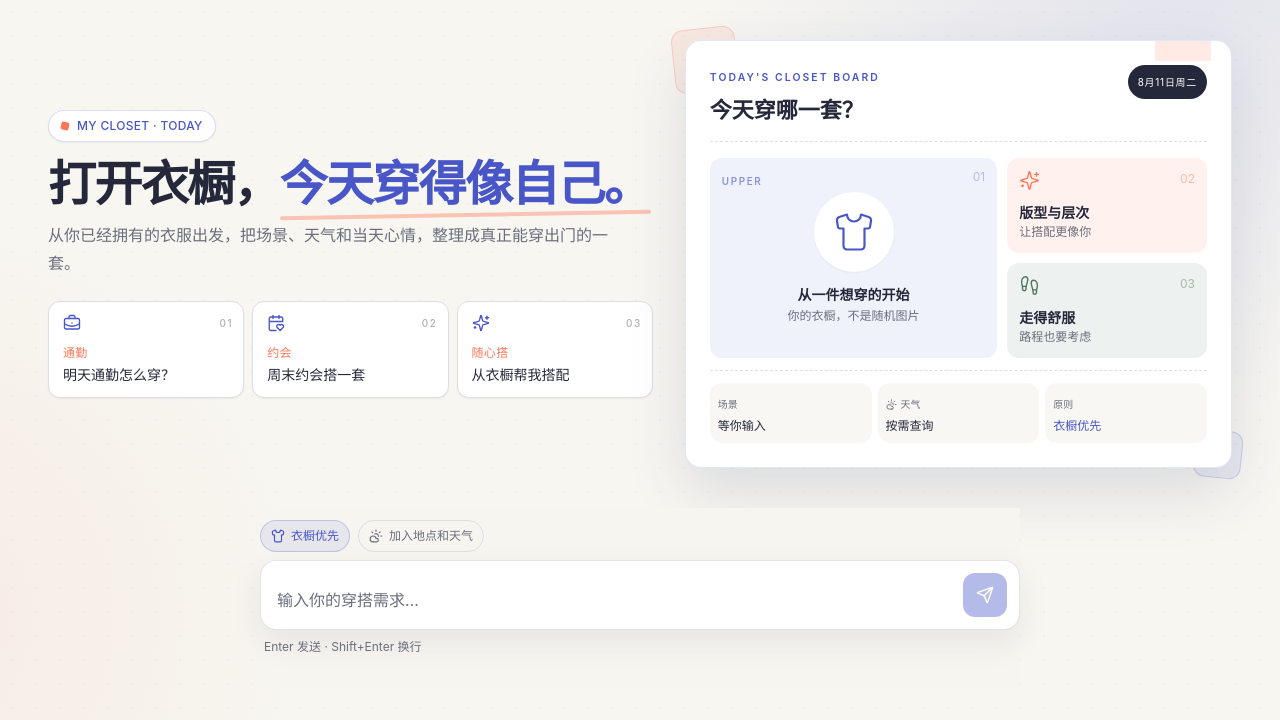
Test: WelcomeState quick prompts › 点击快捷卡片时填充输入框而不是绕过天气字段直接发送
Click the button "01 通勤 明天通勤怎么穿？" at (146,350), box [48,301,244,398]
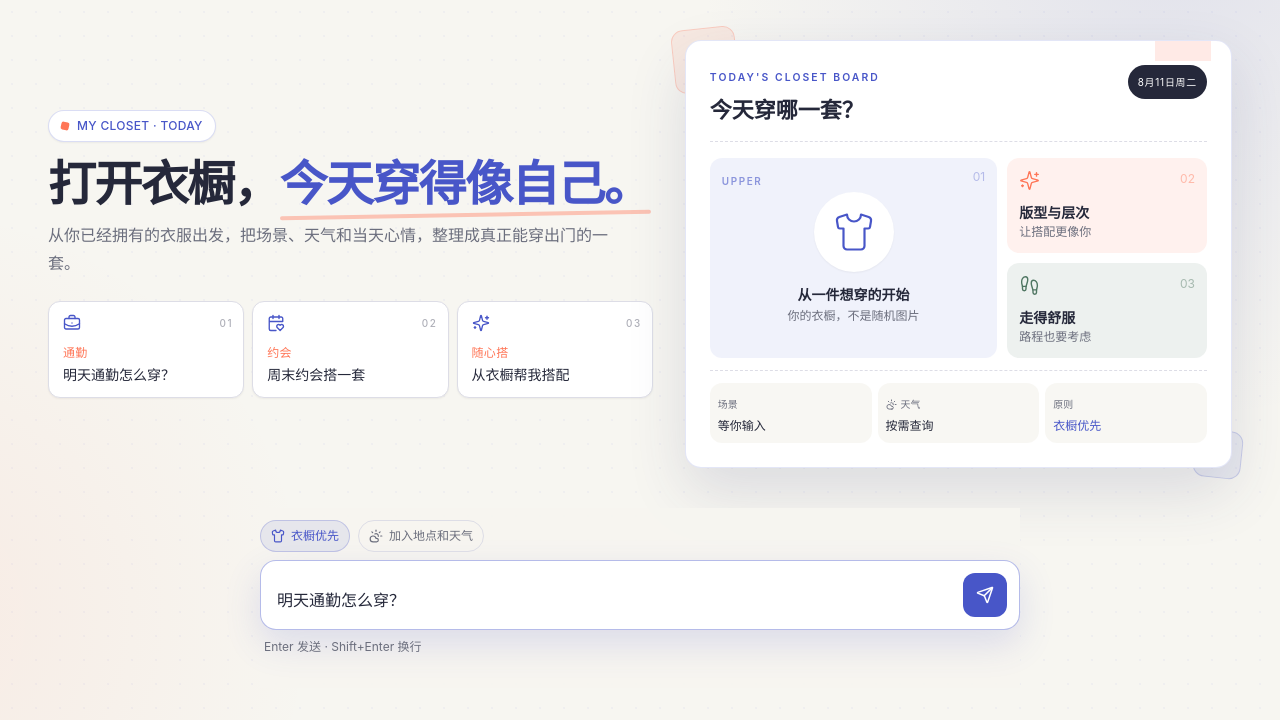
Check: the text box holds "明天通勤怎么穿？", box [273,583,951,617]
